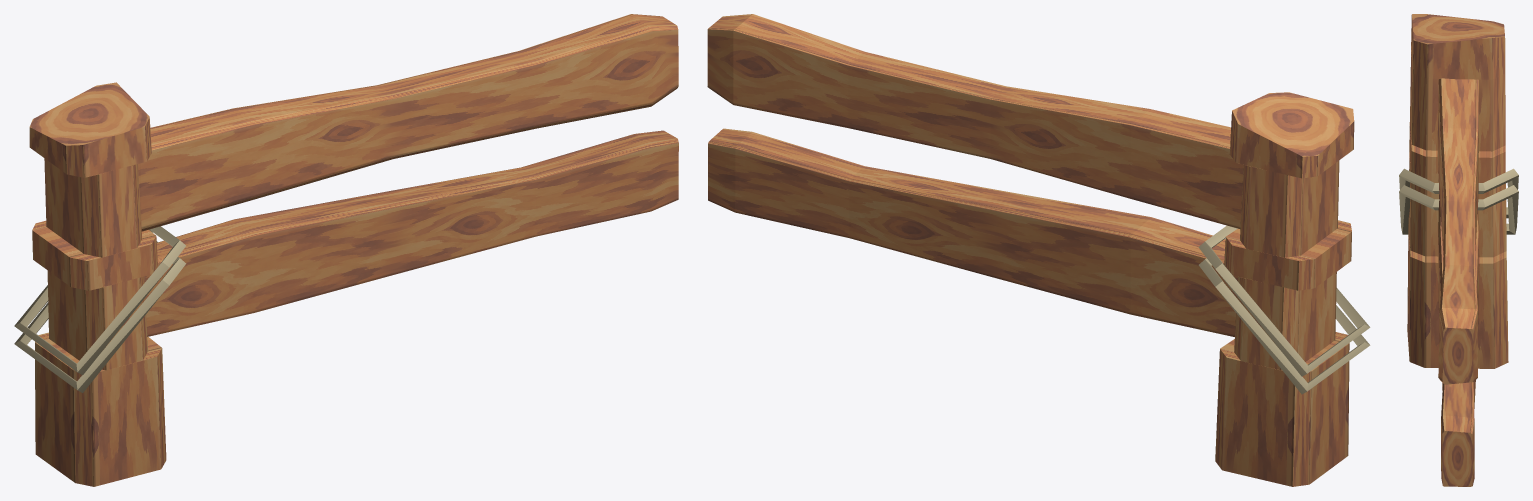
The model's file is fence_w_200_a.glb.
3 views of the same model, side by side, from view 1: azimuth 30°, elevation 25°; view 2: azimuth 150°, elevation 25°; view 3: azimuth 270°, elevation 25° (orthographic). The views are drawn at different scales.
Visible parts, largest first — view 1: fence_w_200_a; view 2: fence_w_200_a; view 3: fence_w_200_a.
Part boxes in pixels (<box>): fence_w_200_a: <box>14,14,678,486</box>; fence_w_200_a: <box>707,14,1370,486</box>; fence_w_200_a: <box>1399,14,1518,486</box>.
Size of the model in its own units: 2.2 by 1.19 by 0.3989.
1 material, 1 textured.
